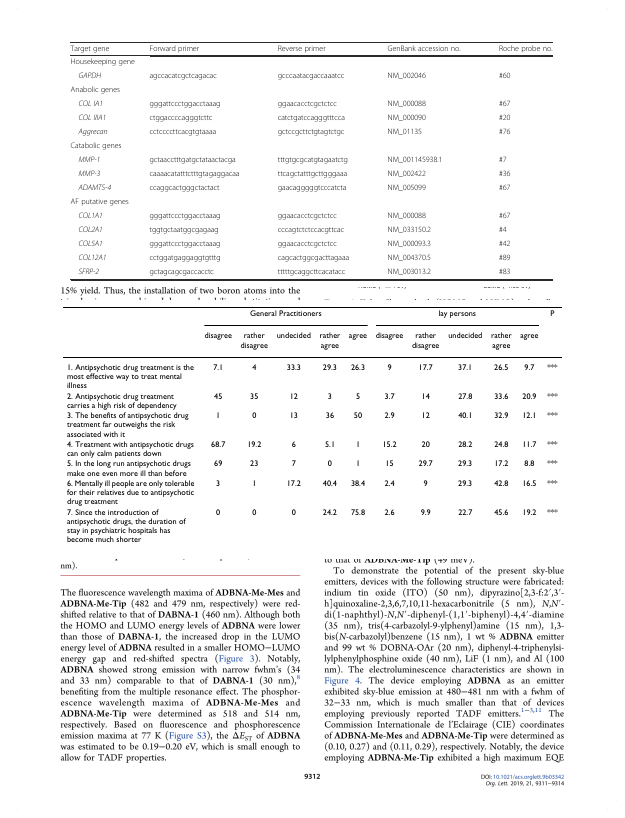borderless: (61, 305, 563, 553), (69, 40, 552, 279)
cell: (65, 508, 186, 545), (65, 479, 195, 507), (65, 363, 194, 391), (65, 411, 189, 440), (65, 459, 191, 479), (65, 440, 194, 459), (65, 392, 177, 411), (148, 169, 240, 179), (148, 155, 237, 165), (248, 309, 322, 319), (148, 99, 221, 109), (148, 211, 221, 221), (148, 239, 221, 249), (148, 253, 221, 263), (277, 253, 350, 263), (277, 155, 349, 165), (148, 183, 220, 193), (148, 225, 220, 235), (277, 169, 348, 179), (148, 71, 218, 81), (277, 183, 347, 193), (277, 113, 346, 123), (148, 127, 217, 137), (277, 267, 346, 277), (277, 71, 345, 81), (277, 127, 345, 137), (277, 225, 345, 235), (387, 44, 462, 53), (148, 267, 215, 277), (70, 57, 136, 67), (148, 113, 213, 123), (277, 99, 338, 109), (69, 197, 130, 207), (277, 211, 338, 221), (277, 239, 338, 249), (410, 332, 440, 351), (387, 155, 443, 165), (239, 332, 268, 351), (70, 141, 122, 151), (70, 85, 121, 95), (498, 44, 553, 53), (148, 44, 200, 53), (387, 225, 432, 235), (387, 239, 432, 249), (387, 253, 432, 263), (387, 267, 432, 277), (277, 44, 326, 53), (318, 332, 341, 351), (489, 332, 512, 351), (387, 71, 427, 81), (387, 99, 427, 109), (387, 113, 427, 123), (387, 169, 427, 179), (387, 183, 427, 193), (387, 211, 427, 221), (437, 309, 476, 319), (70, 44, 110, 53), (387, 127, 423, 137), (275, 332, 311, 341), (447, 332, 483, 341), (77, 183, 112, 192), (77, 127, 108, 137), (77, 113, 107, 123), (77, 99, 104, 109), (77, 253, 107, 262), (374, 332, 404, 341), (203, 332, 232, 341), (77, 71, 102, 81), (77, 211, 104, 220), (77, 225, 104, 234), (77, 239, 104, 248), (77, 155, 101, 164), (77, 169, 101, 178), (77, 267, 100, 276), (347, 332, 368, 341), (519, 332, 539, 341), (349, 479, 366, 489), (349, 508, 366, 518), (285, 363, 301, 373), (321, 363, 337, 373), (349, 363, 365, 373), (417, 363, 433, 373), (457, 363, 473, 373), (493, 363, 509, 373), (457, 392, 473, 402), (493, 392, 509, 402), (521, 392, 537, 402), (457, 411, 473, 421), (493, 411, 509, 421), (521, 411, 537, 421), (210, 440, 226, 450), (246, 440, 262, 450), (381, 440, 397, 450), (457, 440, 473, 450), (493, 440, 509, 450), (521, 440, 537, 450), (417, 459, 433, 469), (457, 459, 473, 469), (493, 459, 509, 469), (285, 479, 301, 489), (321, 479, 337, 489), (457, 479, 473, 489), (493, 479, 509, 489), (521, 479, 537, 489), (321, 508, 337, 518), (457, 508, 473, 518), (493, 508, 509, 518), (521, 508, 537, 518), (498, 71, 511, 81), (498, 99, 511, 109), (498, 113, 511, 123), (498, 127, 511, 137), (498, 169, 511, 179), (498, 183, 511, 193), (498, 211, 511, 221), (498, 239, 511, 249), (498, 253, 511, 263), (498, 267, 511, 277), (212, 363, 224, 373), (523, 363, 535, 373), (546, 363, 558, 373), (383, 392, 395, 402), (546, 392, 558, 402), (383, 411, 395, 421), (546, 411, 558, 421), (323, 440, 335, 450), (546, 440, 558, 450), (523, 459, 535, 469), (546, 459, 558, 469), (383, 479, 395, 489), (546, 479, 558, 489), (383, 508, 395, 518), (419, 508, 431, 518), (546, 508, 558, 518), (324, 411, 335, 421), (352, 411, 363, 421), (213, 392, 223, 402), (249, 392, 259, 402), (288, 392, 298, 402), (420, 392, 430, 402), (288, 411, 298, 421), (420, 411, 430, 421), (420, 440, 430, 450), (213, 459, 223, 469), (249, 459, 259, 469), (384, 459, 394, 469), (498, 155, 507, 165), (498, 225, 507, 235), (354, 392, 361, 402), (354, 440, 361, 450), (354, 459, 361, 469), (549, 309, 555, 319), (251, 363, 257, 373), (386, 363, 392, 373), (326, 392, 332, 402), (215, 411, 221, 421), (251, 411, 257, 421), (290, 440, 296, 450), (290, 459, 296, 469), (326, 459, 332, 469), (215, 479, 221, 489), (251, 479, 257, 489), (422, 479, 428, 489), (215, 508, 221, 518), (251, 508, 257, 518), (290, 508, 296, 518)
